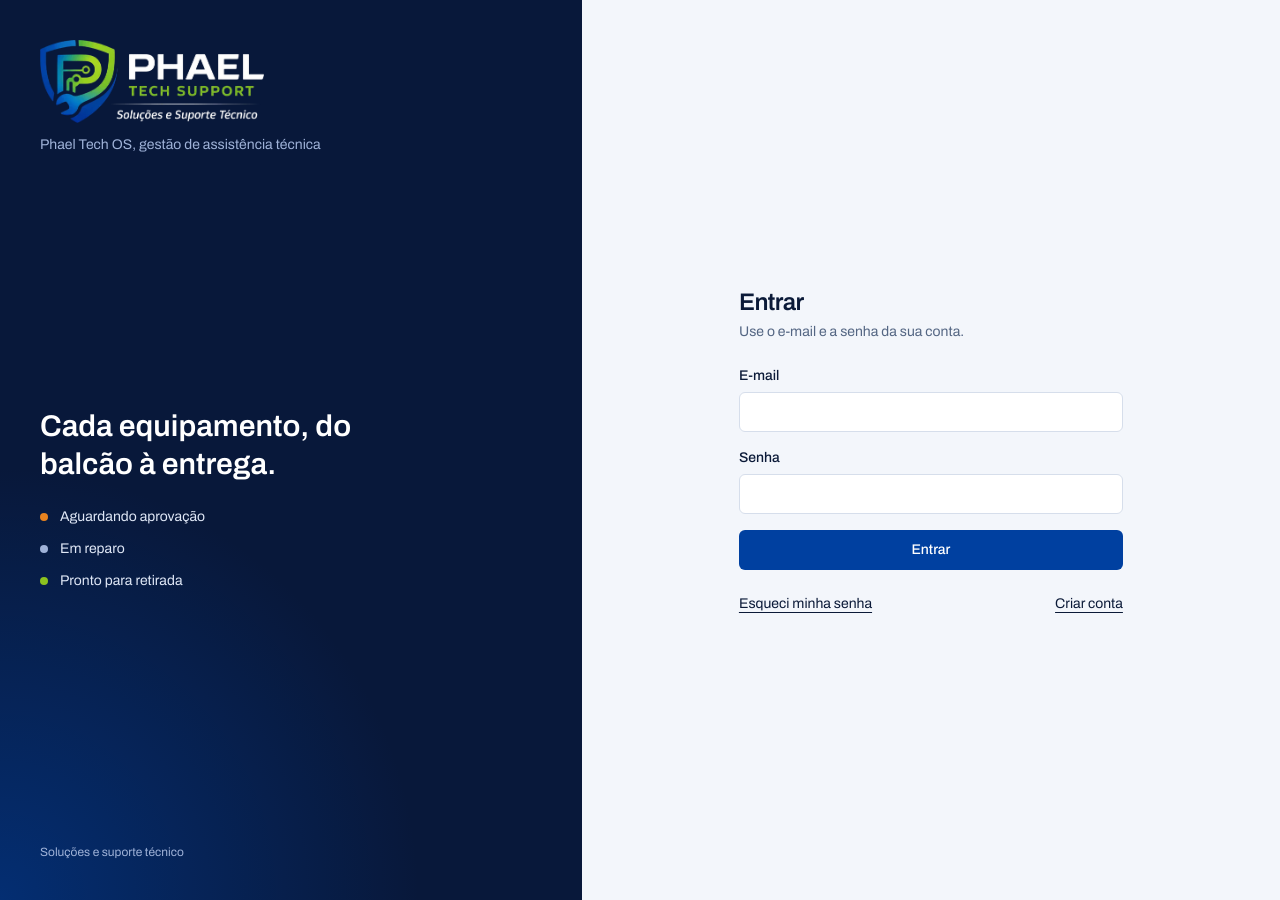
LoginPage › rejeita e-mail malformado
Type "nao-e-email" into the field labelled "E-mail" at (931, 412), box [739,392,1123,432]
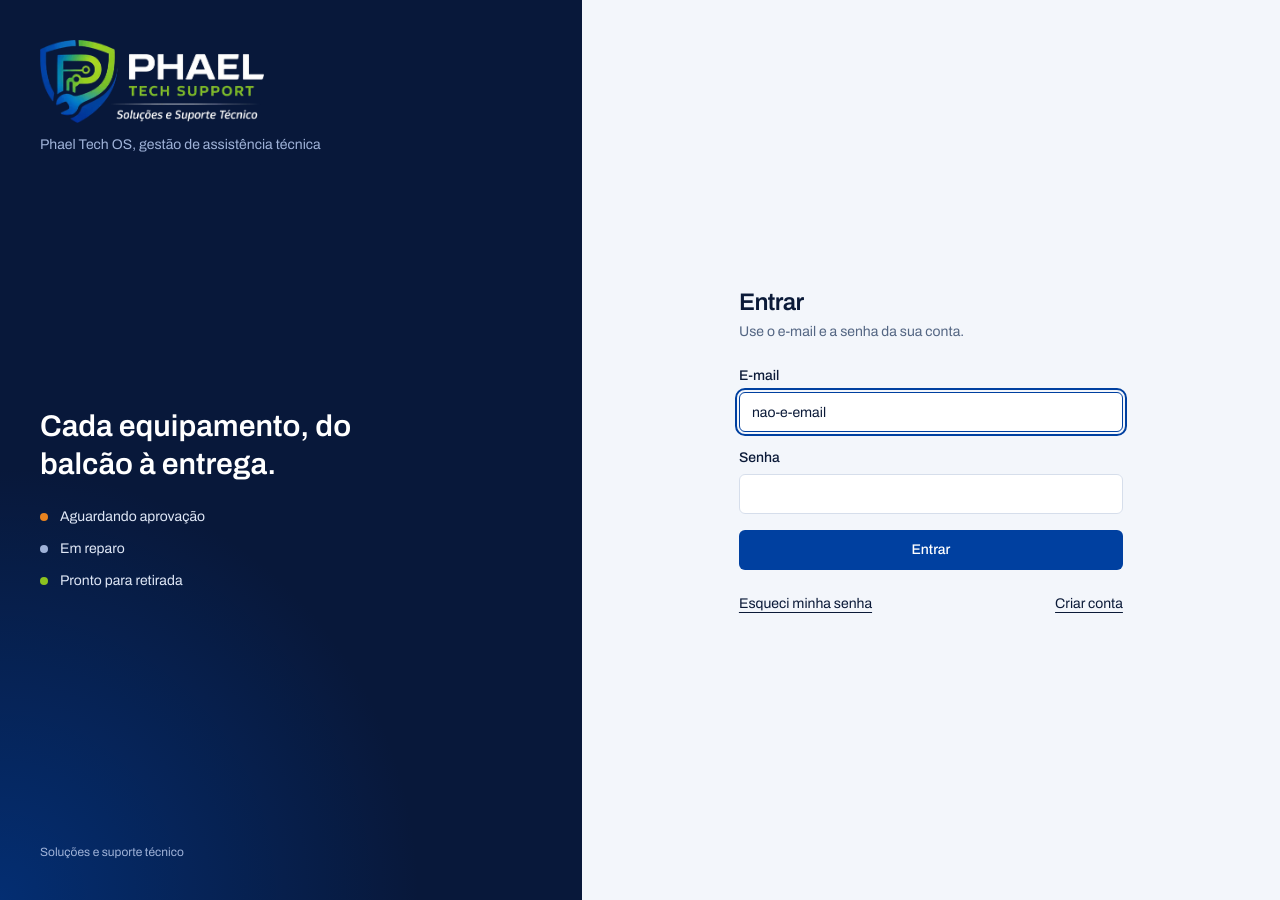
Type "qualquer" into the password field labelled "Senha" at (931, 494), box [739,474,1123,514]
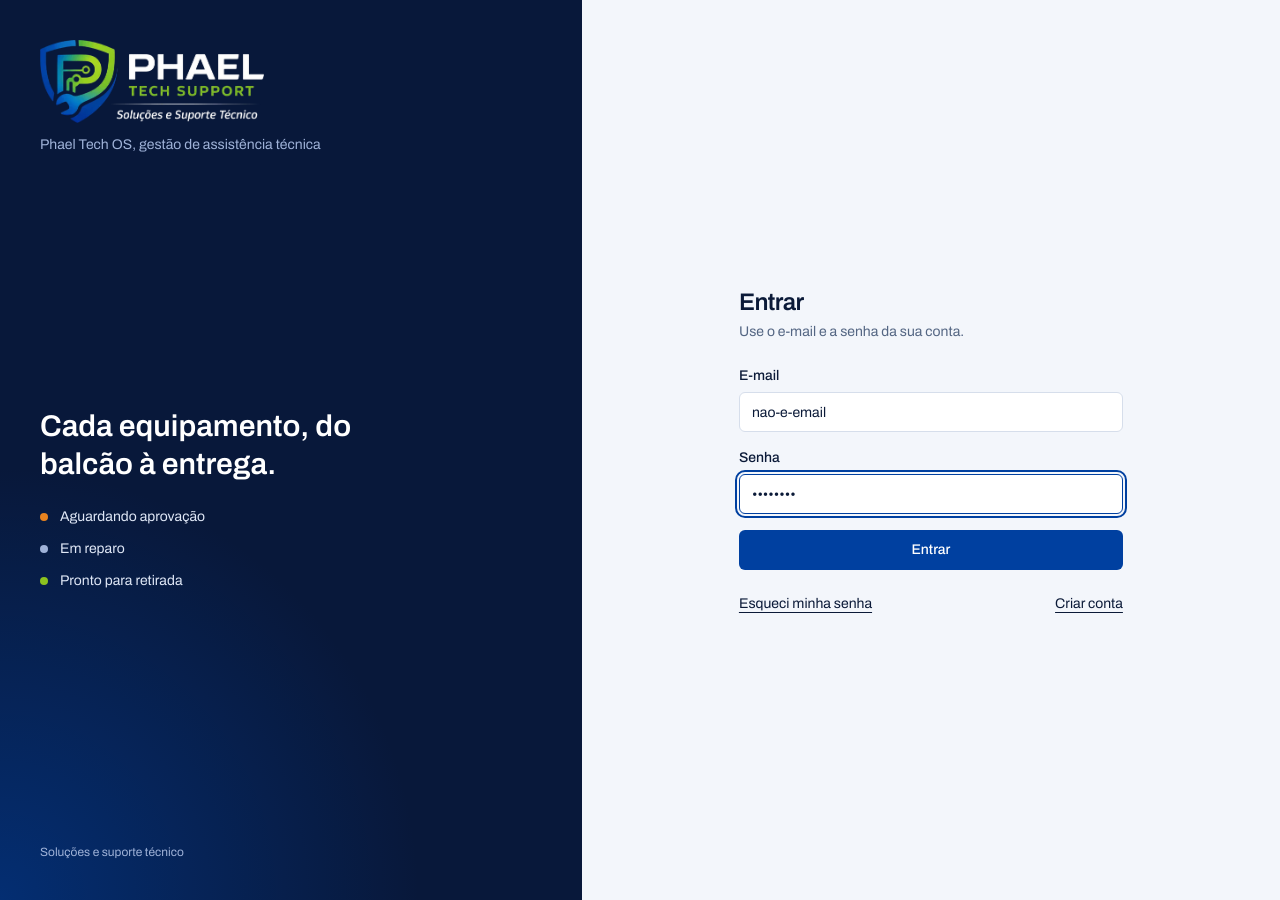
Click the button "Entrar" at (931, 550), box [739,530,1123,570]
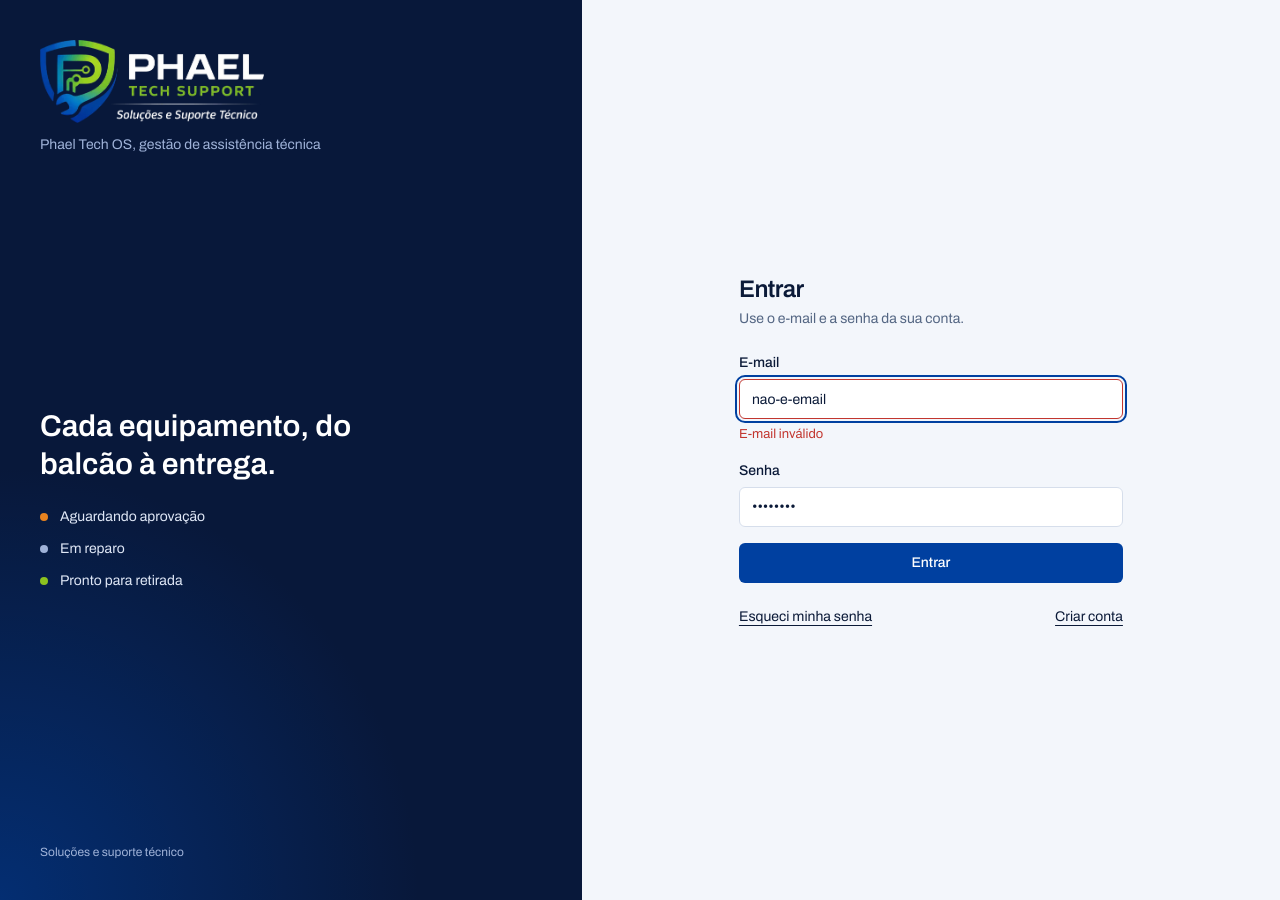
Check: the text "E-mail inválido" is shown, box [739,427,823,441]
